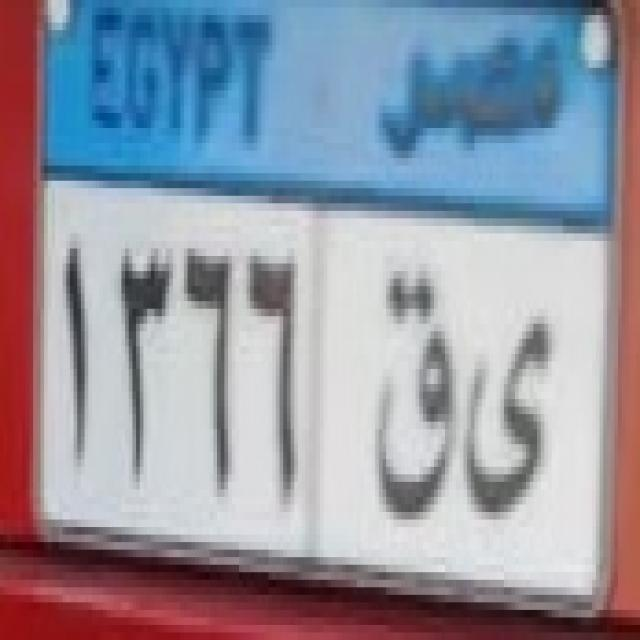1: (48, 228, 110, 494)
3: (116, 235, 174, 474)
6: (243, 252, 305, 498), (177, 255, 241, 492)
Taa: (372, 276, 460, 520)
Yeeh: (462, 308, 554, 526)
